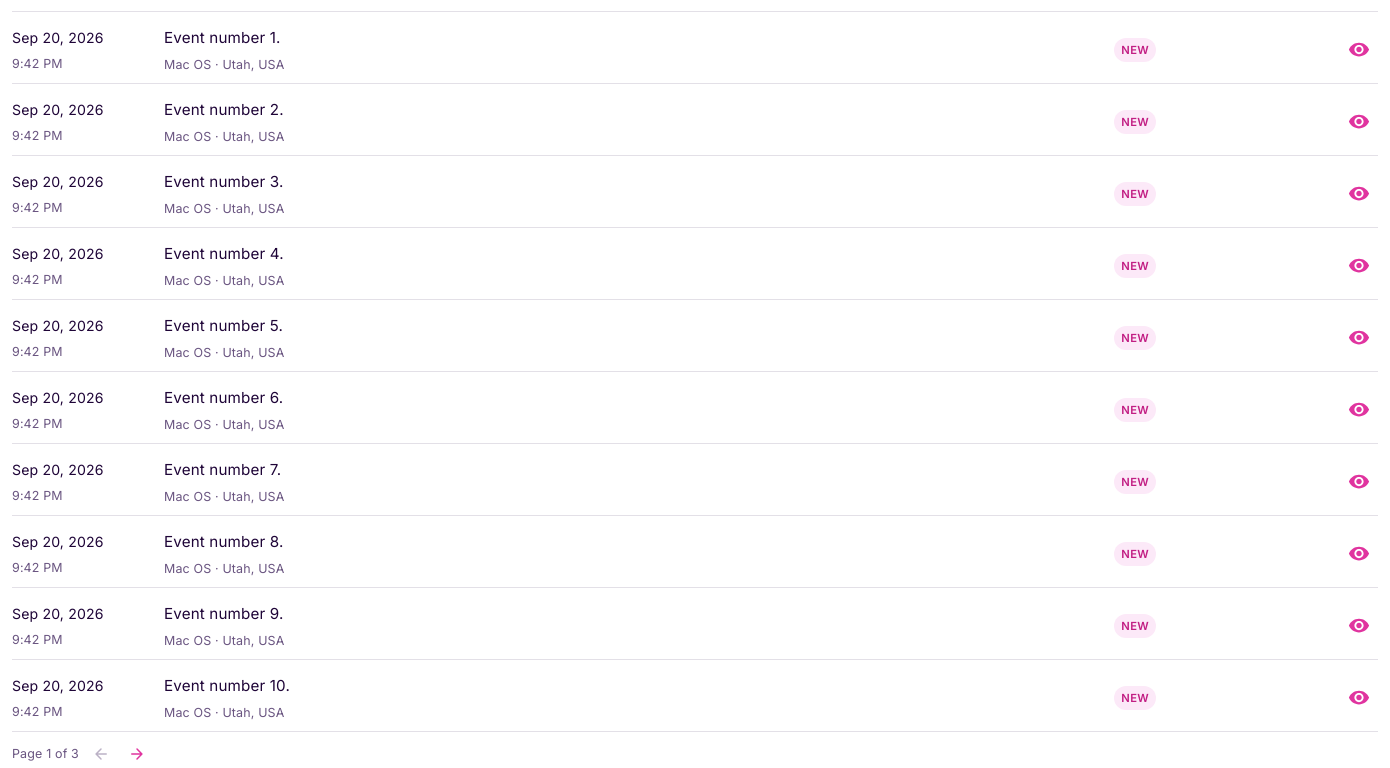
Test: the pages it is read in › quiets the arrow there is nothing behind
This screenshot has width=1390, height=768.
(page scrolled)
Expected: the button named "Newer activity" is disabled, [87,740,115,767]
What coordinates should you click on to do the following:
click the button named "Older activity"
I would click on:
 (137, 754)
Its box is [123,740,151,767].
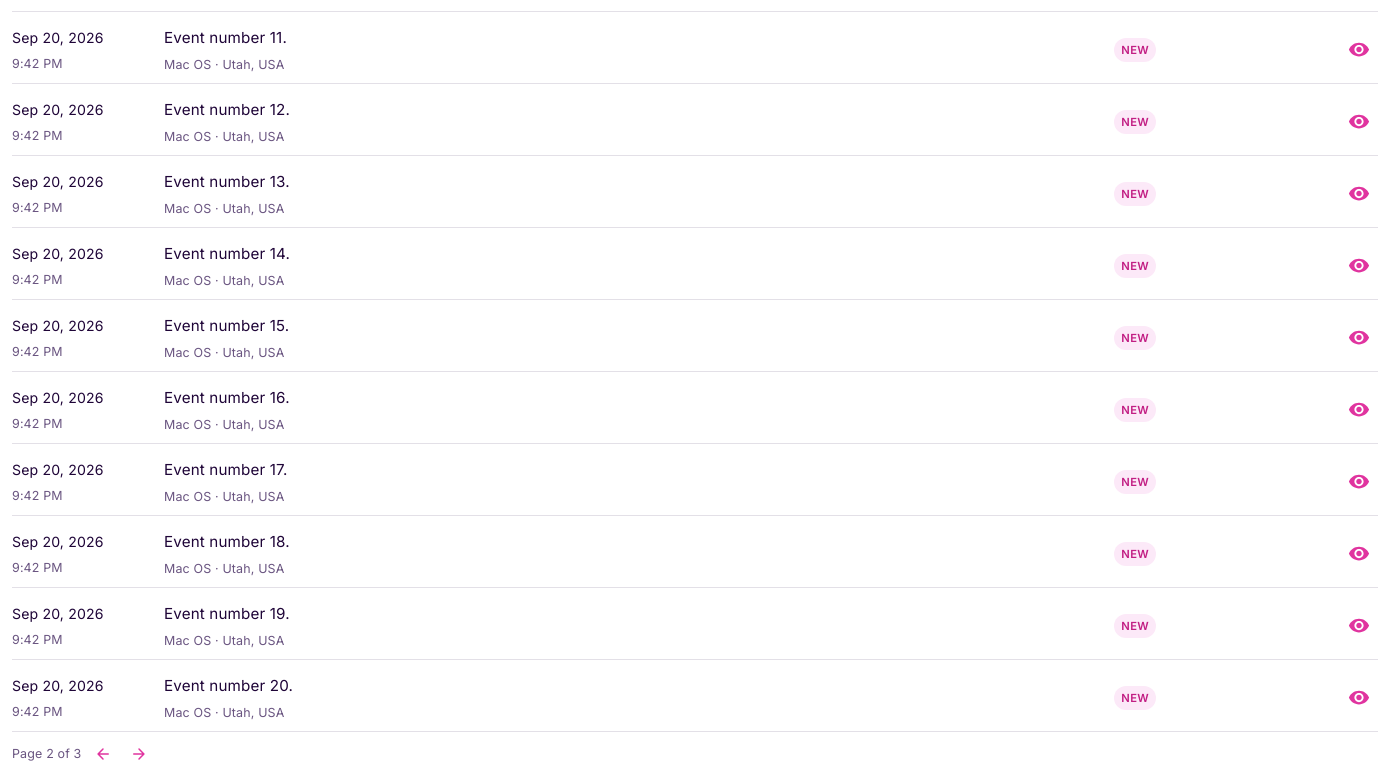
What coordinates should you click on to do the following:
click the button named "Older activity"
I would click on:
 (140, 754)
Its box is [126,740,154,767].
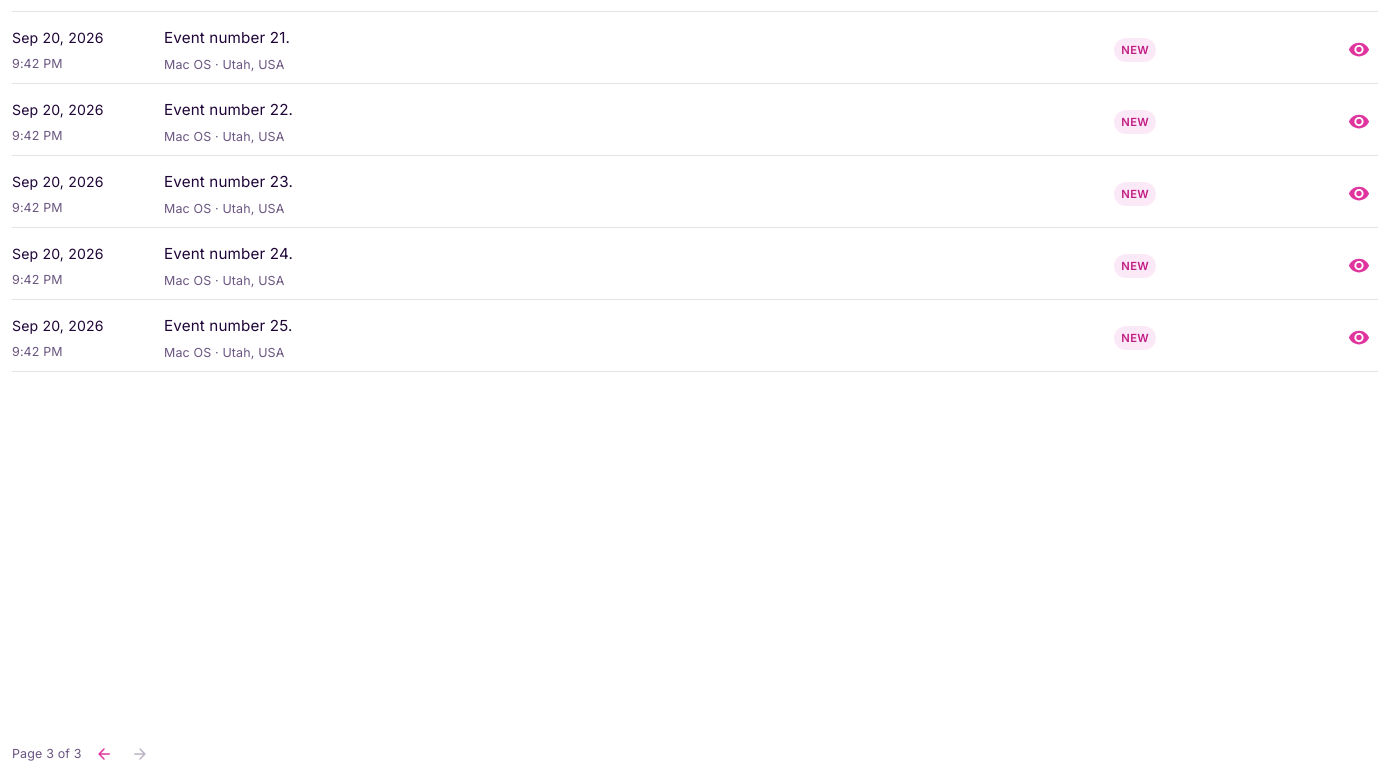
Expected: the button named "Newer activity" is enabled, [90,740,118,767]
Expected: the number of buttons named "View Event" is 5, [1340,31,1378,69]; [1340,103,1378,141]; [1340,175,1378,213]; [1340,247,1378,285]; [1340,319,1378,357]
Expected: the button named "Older activity" is disabled, [126,740,154,767]
